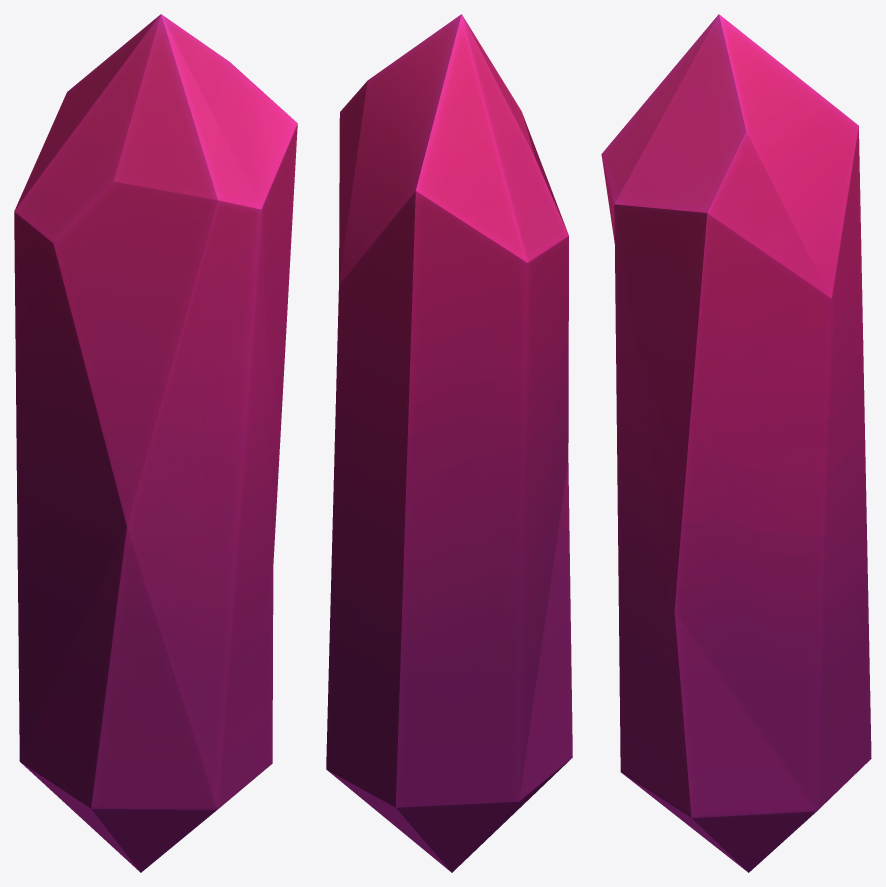
File: Crystal1.fbx
The picture shows the model from 3 angles, left to right: view 1: azimuth 30°, elevation 25°; view 2: azimuth 150°, elevation 25°; view 3: azimuth 270°, elevation 25°; orthographic projection. The views are drawn at different scales.
Parts seen in each view (by area): view 1: Crystal1; view 2: Crystal1; view 3: Crystal1.
Part boxes in pixels (bbox=[...]): Crystal1: bbox=[14, 14, 297, 872]; Crystal1: bbox=[326, 14, 572, 872]; Crystal1: bbox=[601, 14, 871, 872].
Size of the model in its own units: 114 by 396 by 113.
Materials: 1 (1 with a texture image).
